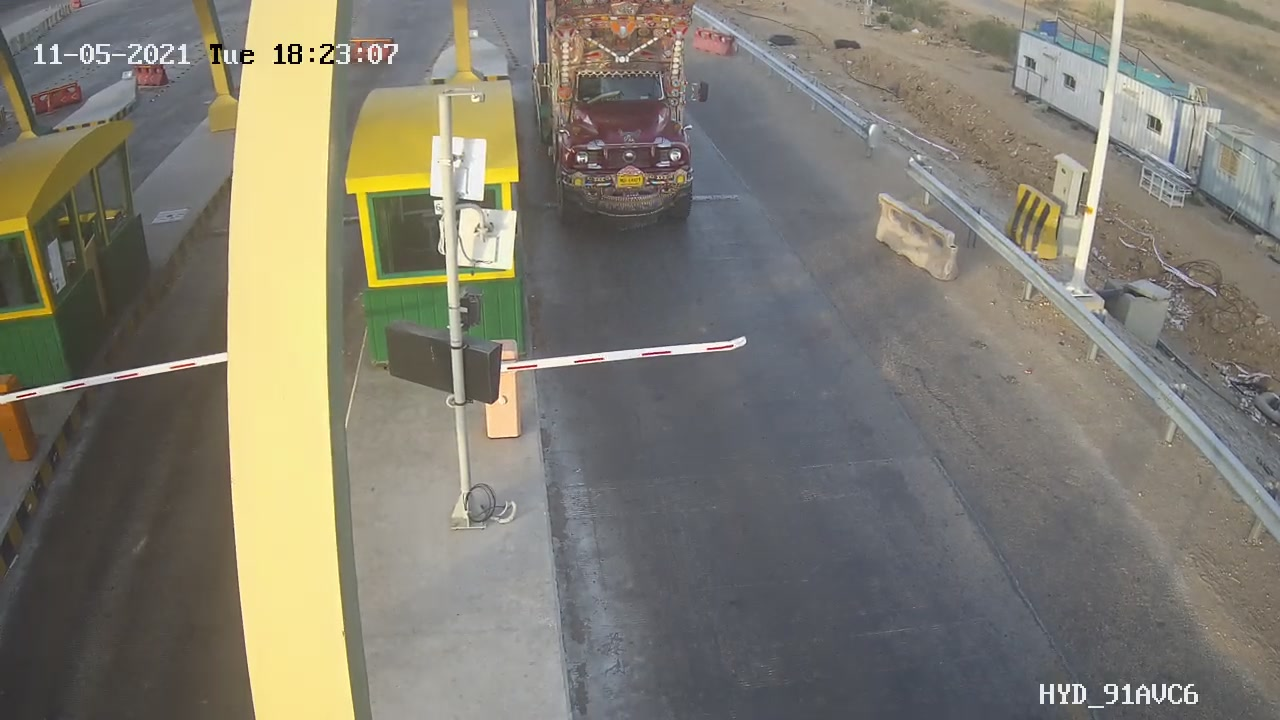F5: (515, 7, 717, 227)
